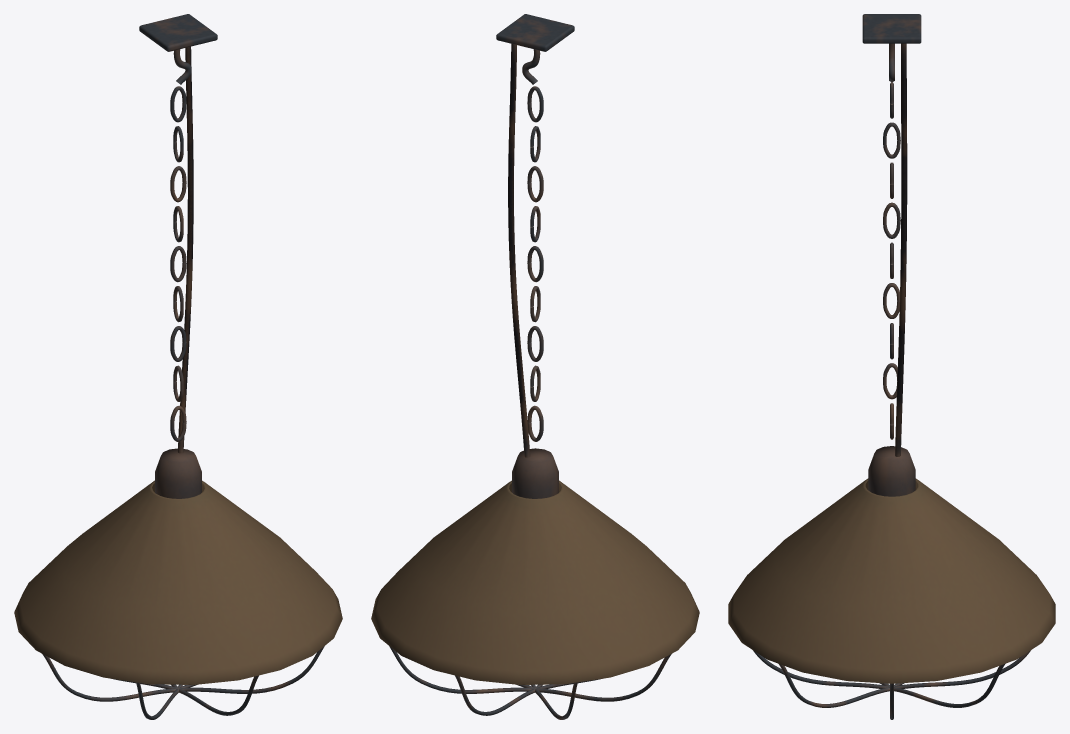
File: huta_lampa.glb
3 views of the same model, side by side, from view 1: azimuth 30°, elevation 25°; view 2: azimuth 150°, elevation 25°; view 3: azimuth 270°, elevation 25° (orthographic).
Parts seen in each view (by area): view 1: Lampa; view 2: Lampa; view 3: Lampa.
Boxes of the visible parts, left/top/right/bottom form: Lampa: left=14, top=14, right=342, bottom=719; Lampa: left=371, top=14, right=699, bottom=719; Lampa: left=728, top=14, right=1055, bottom=719.
Bounding box in the file's own units: 0.56 × 1.24 × 0.5543.
Materials: 2 (1 with a texture image).
